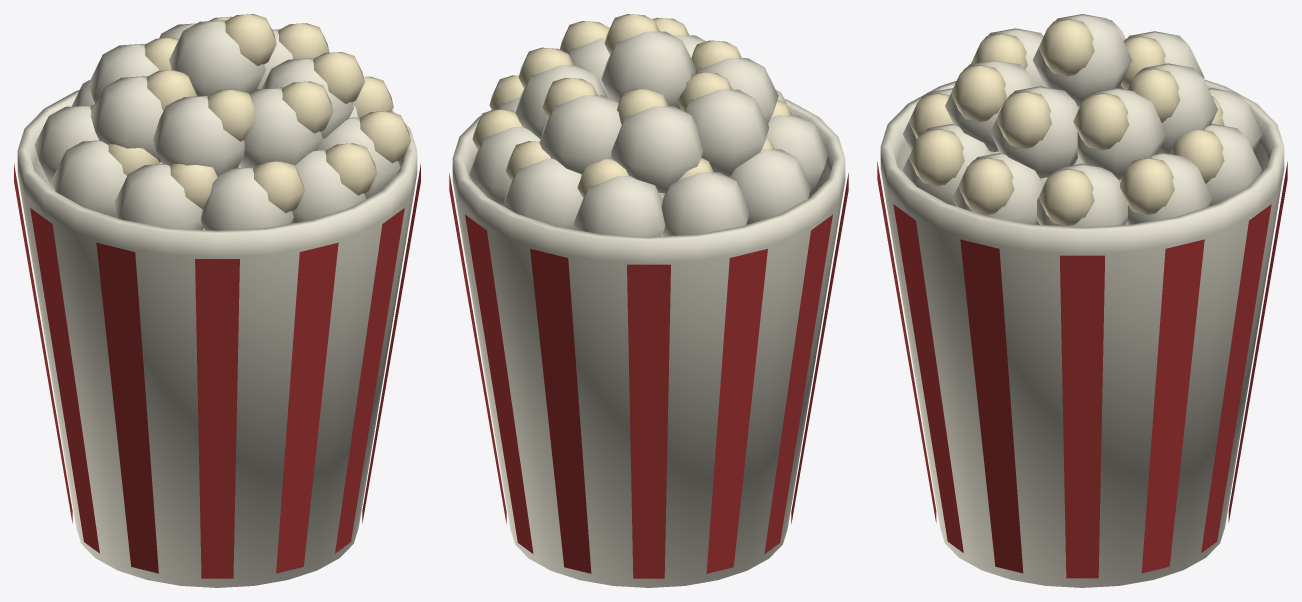
The model's file is P100_popcorn_bucket_rebuilt.glb.
The picture shows the model from 3 angles, left to right: view 1: azimuth 30°, elevation 25°; view 2: azimuth 150°, elevation 25°; view 3: azimuth 270°, elevation 25°; orthographic projection. The views are drawn at different scales.
Parts seen in each view (by area): view 1: white, red, Pale_butter_popcorn_lobes; view 2: white, red, Pale_butter_popcorn_lobes; view 3: white, red, Pale_butter_popcorn_lobes.
Boxes of the visible parts, x1,y1,x2,y2 form: white: (17, 20, 417, 587); red: (14, 164, 420, 578); Pale_butter_popcorn_lobes: (90, 14, 411, 212); white: (452, 31, 845, 587); red: (449, 173, 848, 578); Pale_butter_popcorn_lobes: (472, 14, 791, 197); white: (880, 14, 1284, 587); red: (877, 161, 1287, 578); Pale_butter_popcorn_lobes: (909, 19, 1224, 225).
Size of the model in its own units: 0.186 by 0.2589 by 0.186.
